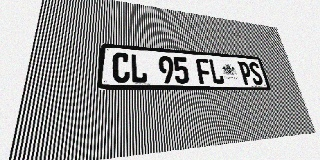5: (173, 56, 190, 84)
9: (158, 55, 175, 84)
C: (112, 52, 130, 83)
F: (196, 58, 213, 84)
L: (130, 53, 148, 83), (208, 59, 225, 84)
P: (237, 61, 254, 85)
S: (248, 62, 264, 85)
